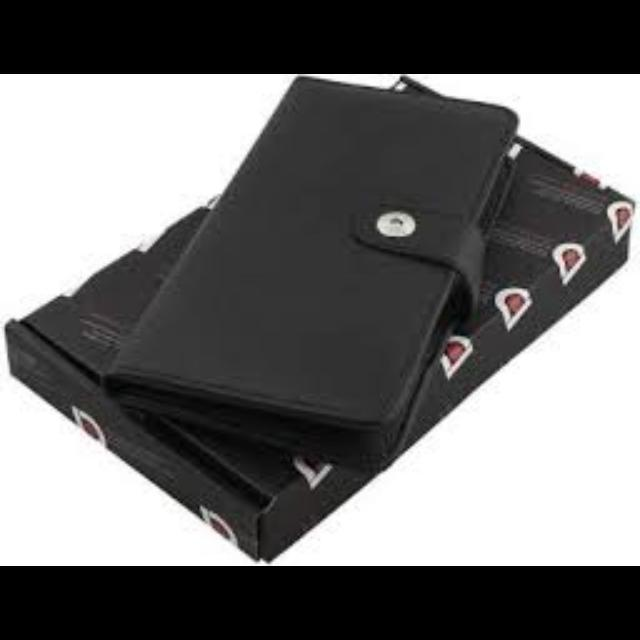wallet: (100, 74, 538, 470)
